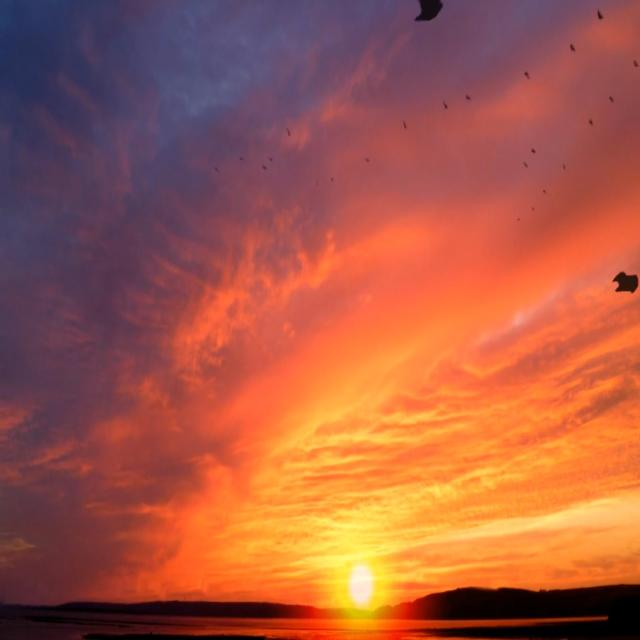bird: (412, 0, 446, 31), (609, 265, 639, 297), (596, 4, 604, 23), (568, 42, 578, 55), (586, 113, 595, 127), (523, 68, 531, 83), (401, 118, 409, 133), (631, 58, 640, 70), (463, 90, 472, 102), (528, 145, 538, 155), (441, 99, 448, 113), (284, 126, 292, 137), (522, 159, 529, 171), (608, 94, 615, 104), (363, 155, 370, 164), (541, 186, 548, 195), (562, 162, 568, 172), (329, 173, 335, 182), (260, 164, 268, 170), (268, 154, 273, 162), (530, 205, 535, 213), (516, 216, 521, 223)
